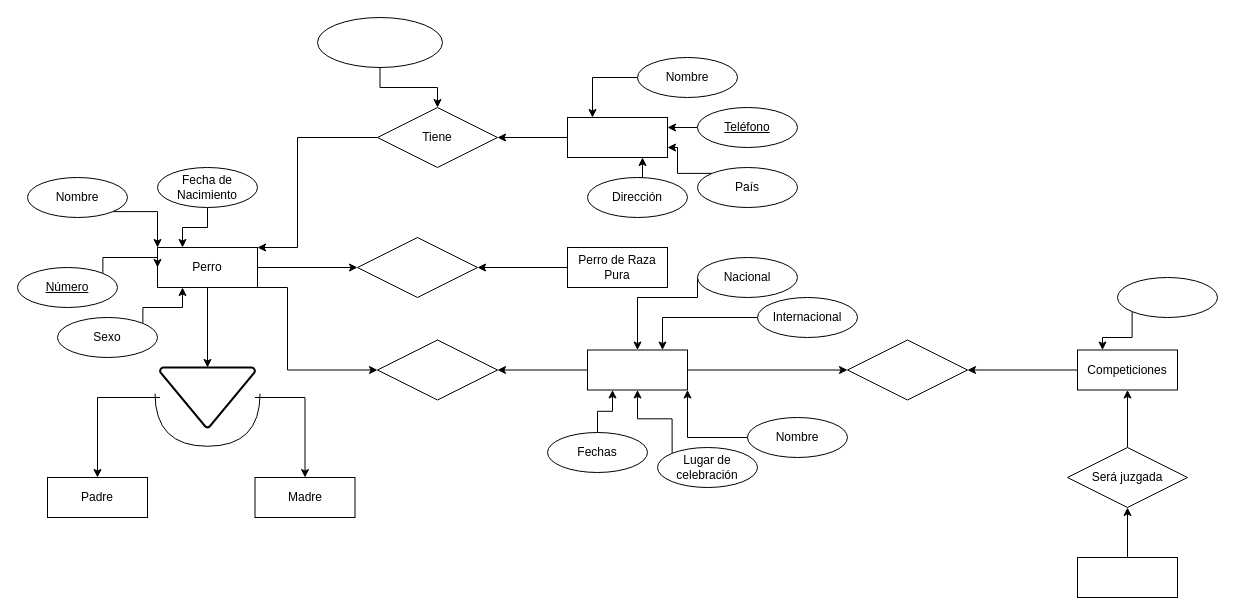
Image size: 1235x615. Some labels were removed from this diagram. The box of each missing label's shape, as (x1, y1, x2, y2) in pixels:
Compite en: (376, 339, 498, 400)
es: (356, 236, 478, 298)
Exposición: (586, 349, 688, 390)
Fecha de Adopcion/ Compra: (316, 16, 442, 68)
Hay diversas: (846, 339, 968, 400)
ISA: (158, 366, 256, 428)
Juez: (1076, 556, 1178, 598)
Propietario: (566, 116, 668, 158)
Tipo de competición: (1116, 276, 1218, 318)
